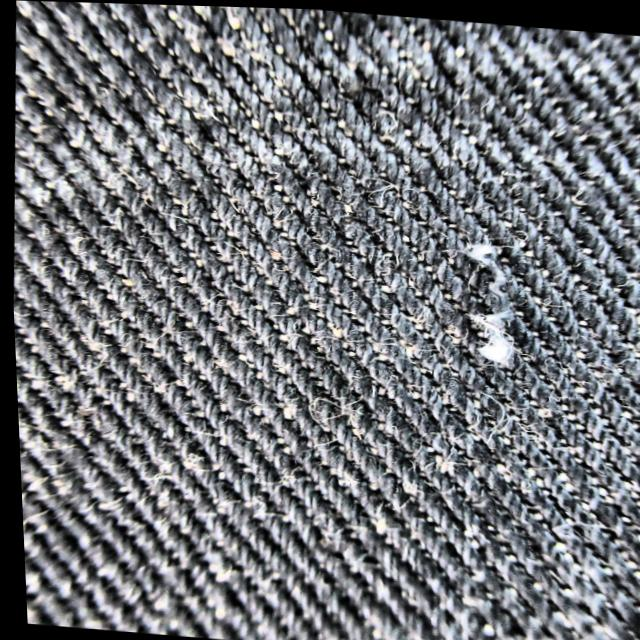Hole: (425, 227, 540, 366)
